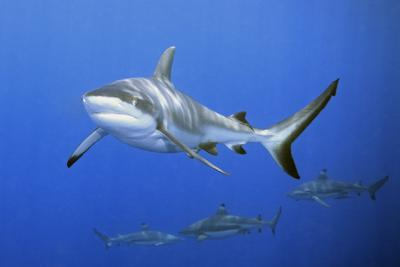Shark -Selachimorpha-: (65, 46, 339, 178), (174, 200, 283, 242), (284, 168, 391, 207), (91, 222, 184, 249)
